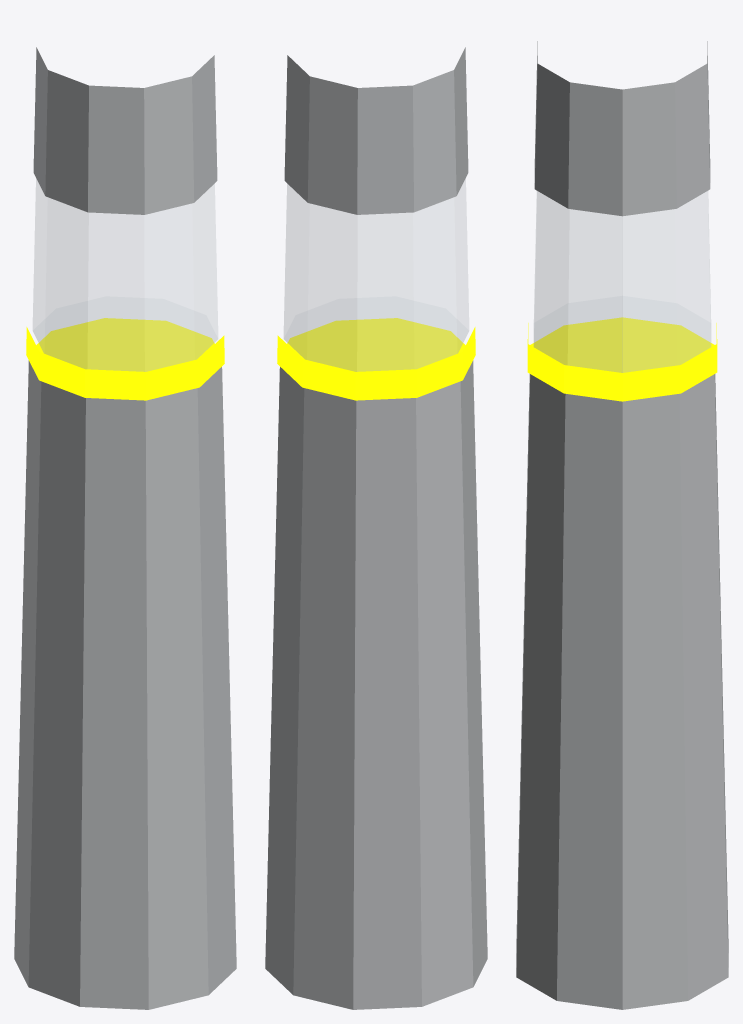
File: ext_bollard_light_05.glb
3 views of the same model, side by side, from view 1: azimuth 30°, elevation 25°; view 2: azimuth 150°, elevation 25°; view 3: azimuth 270°, elevation 25° (orthographic).
Parts seen in each view (by area): view 1: Post, Glow_Glass, Amber_Line; view 2: Post, Glow_Glass, Amber_Line; view 3: Post, Glow_Glass, Amber_Line.
Part boxes in pixels (left/top/right/bottom): Post: left=14, top=47, right=236, bottom=1009; Glow_Glass: left=33, top=179, right=217, bottom=371; Amber_Line: left=26, top=318, right=224, bottom=400; Post: left=265, top=47, right=487, bottom=1009; Glow_Glass: left=284, top=179, right=468, bottom=371; Amber_Line: left=277, top=318, right=475, bottom=400; Post: left=516, top=41, right=728, bottom=1009; Glow_Glass: left=534, top=191, right=710, bottom=372; Amber_Line: left=527, top=317, right=717, bottom=401.
Size of the model in its own units: 0.2 by 0.9 by 0.1902.
